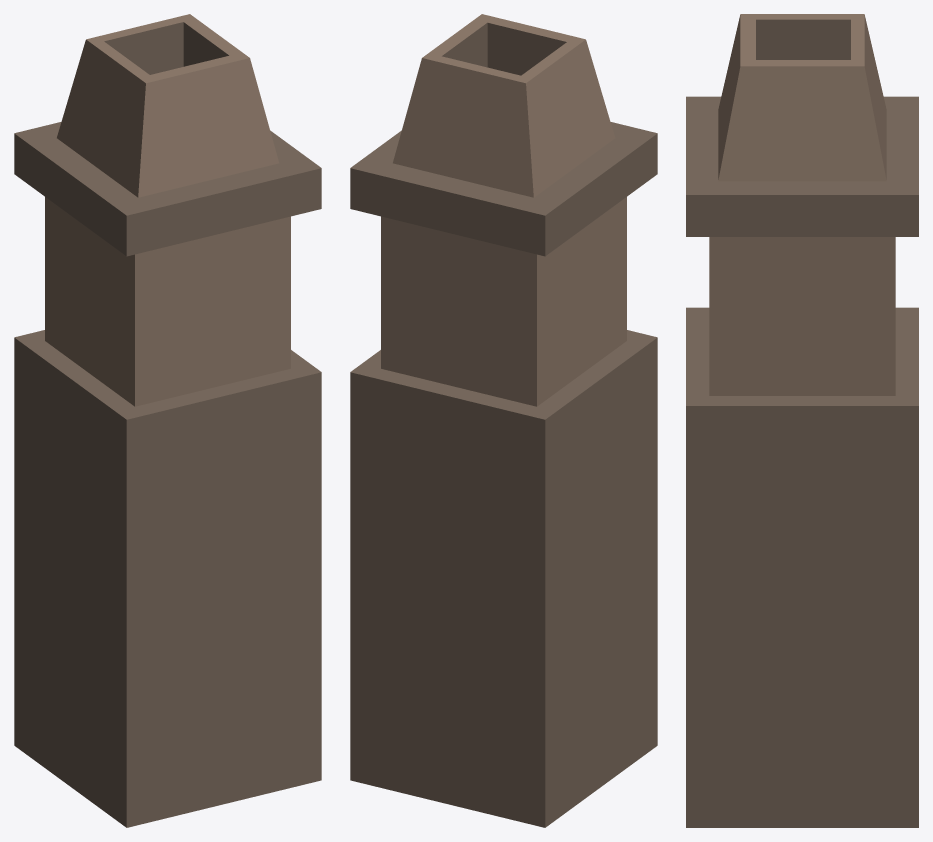
The model's file is Roof_Prop_Chimney_Stone.glb.
3 views of the same model, side by side, from view 1: azimuth 30°, elevation 25°; view 2: azimuth 150°, elevation 25°; view 3: azimuth 270°, elevation 25° (orthographic). The views are drawn at different scales.
Parts seen in each view (by area): view 1: Roof_Prop_Chimney_Stone; view 2: Roof_Prop_Chimney_Stone; view 3: Roof_Prop_Chimney_Stone.
Part boxes in pixels (x1,y1,x2,y2): Roof_Prop_Chimney_Stone: (14,14,321,827); Roof_Prop_Chimney_Stone: (350,14,657,827); Roof_Prop_Chimney_Stone: (686,14,918,827).
Bounding box in the file's own units: 0.5 × 1.75 × 0.5.
